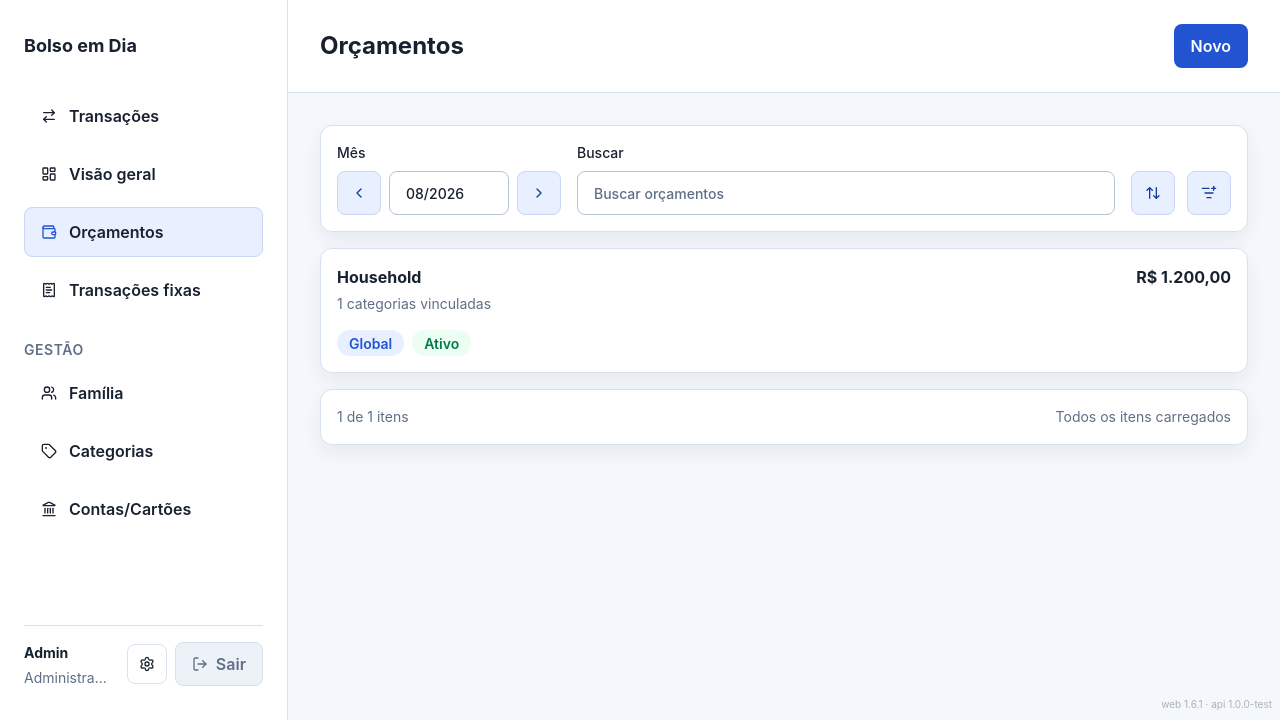
BudgetsPage › shows mapped error feedback when budget save fails
Expected: the text "Household" is shown, 337,267 -> 421,287
Click the button "Novo".
click(1211, 46)  # box 1174,24 -> 1248,68
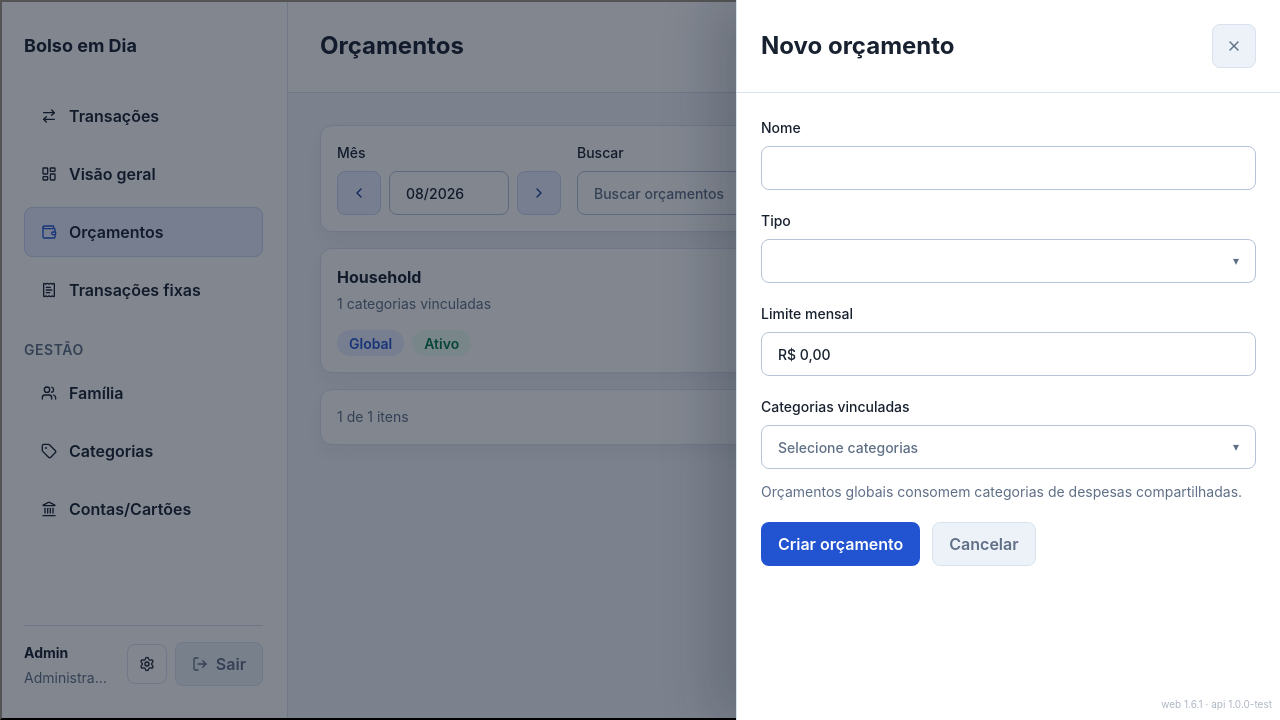
Type "Travel budget" into the field labelled "Nome".
click(1008, 168); type("Travel budget")  # box 761,146 -> 1256,190
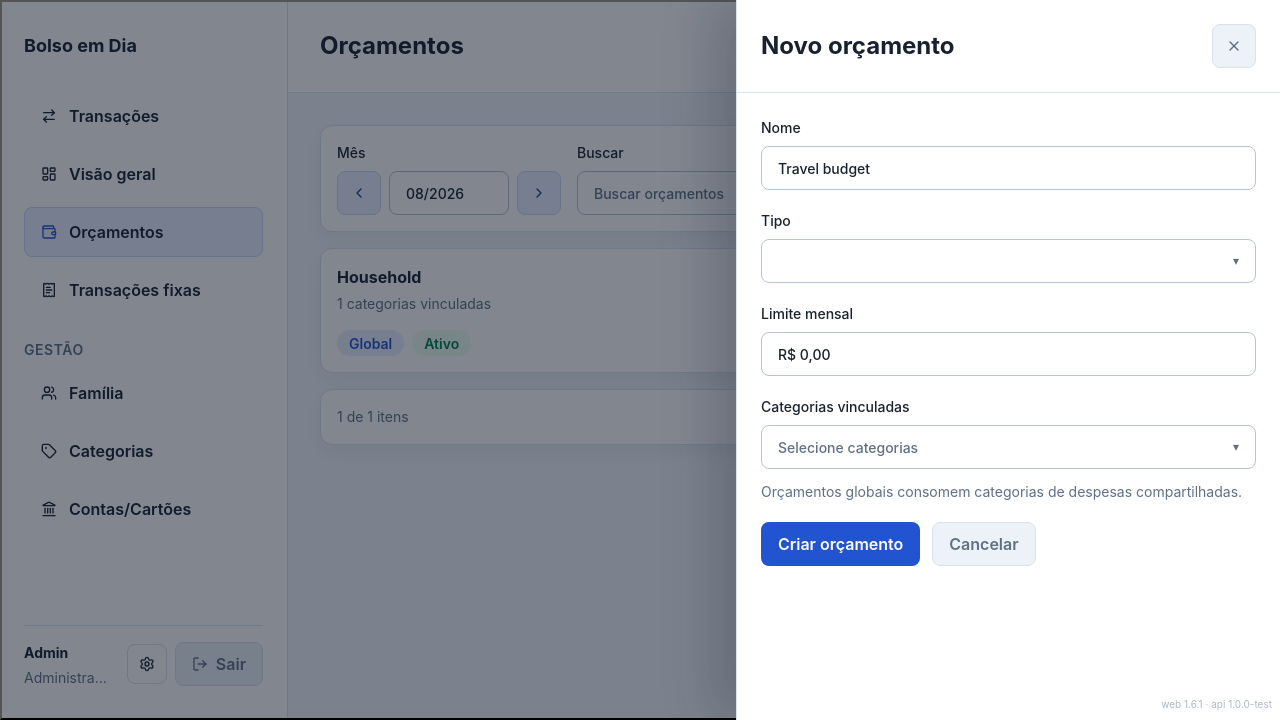
Replace the text in the field labelled "Limite mensal" with "450" at (1008, 354), box 761,332 -> 1256,376
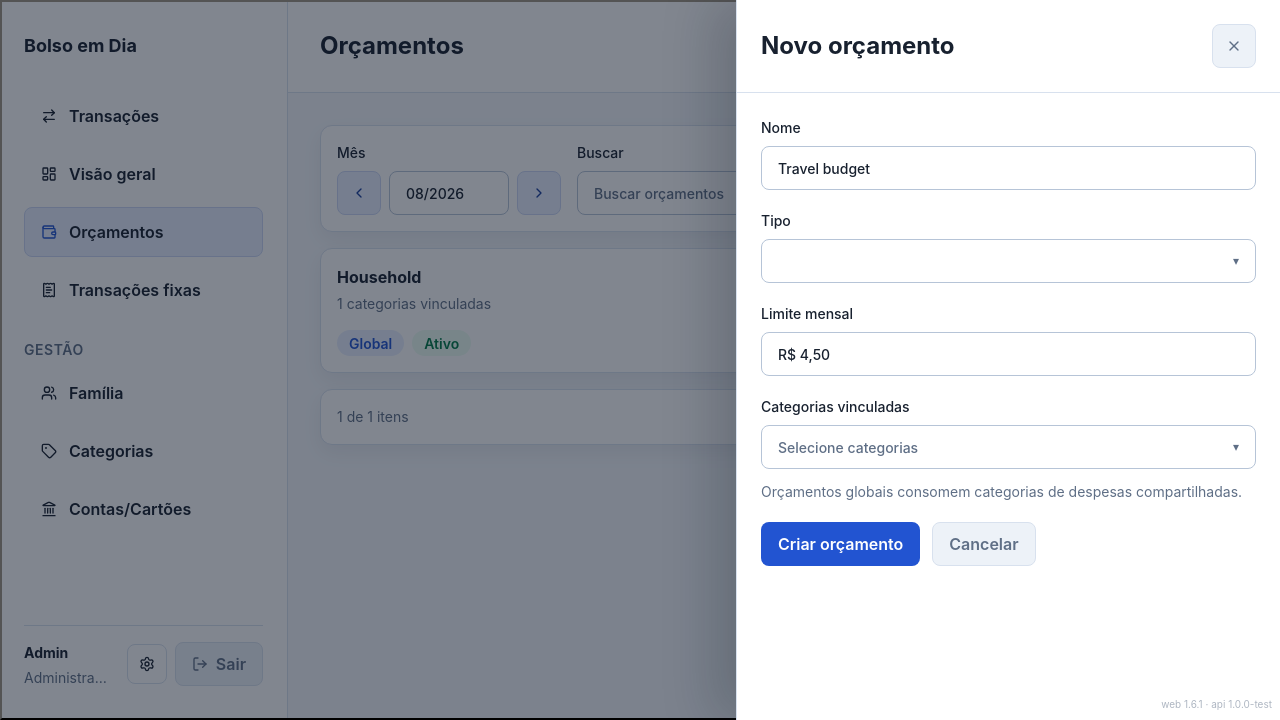
Select "Mesada" in the dropdown labelled "Tipo" at (1008, 246), box 761,210 -> 1256,283
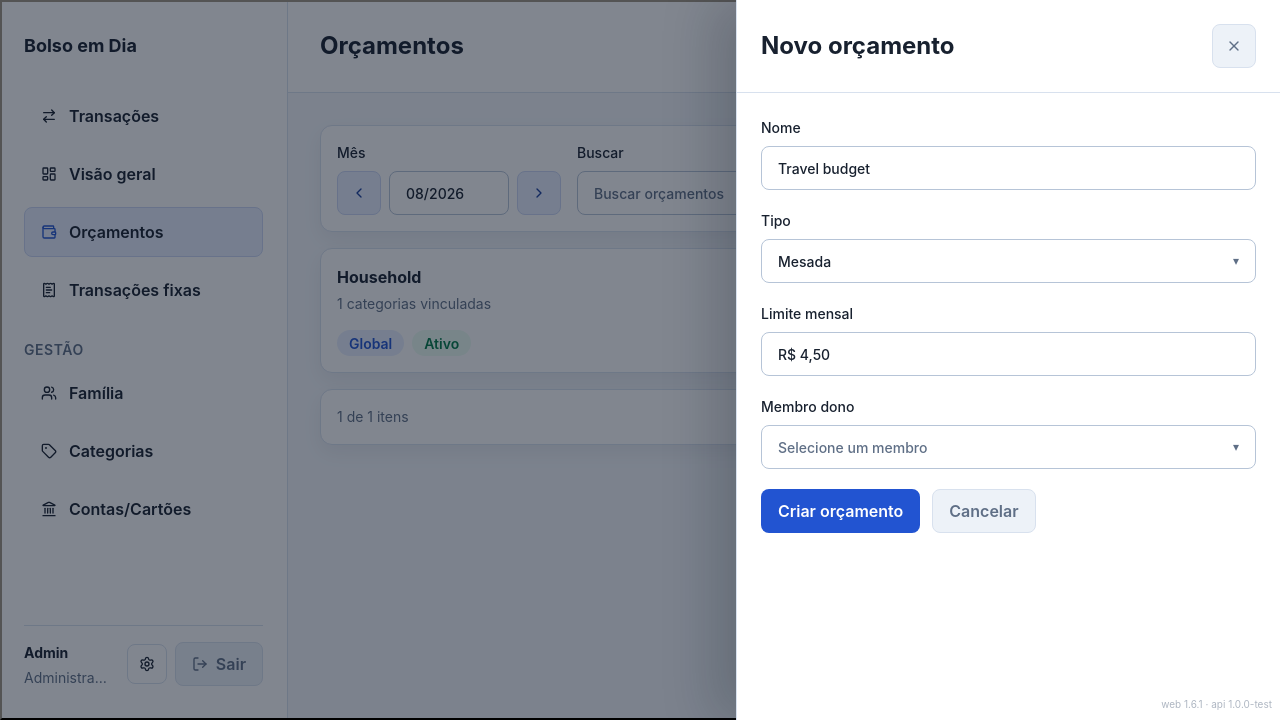
Select "Taylor" in the dropdown labelled "Membro dono" at (1008, 432), box 761,396 -> 1256,469
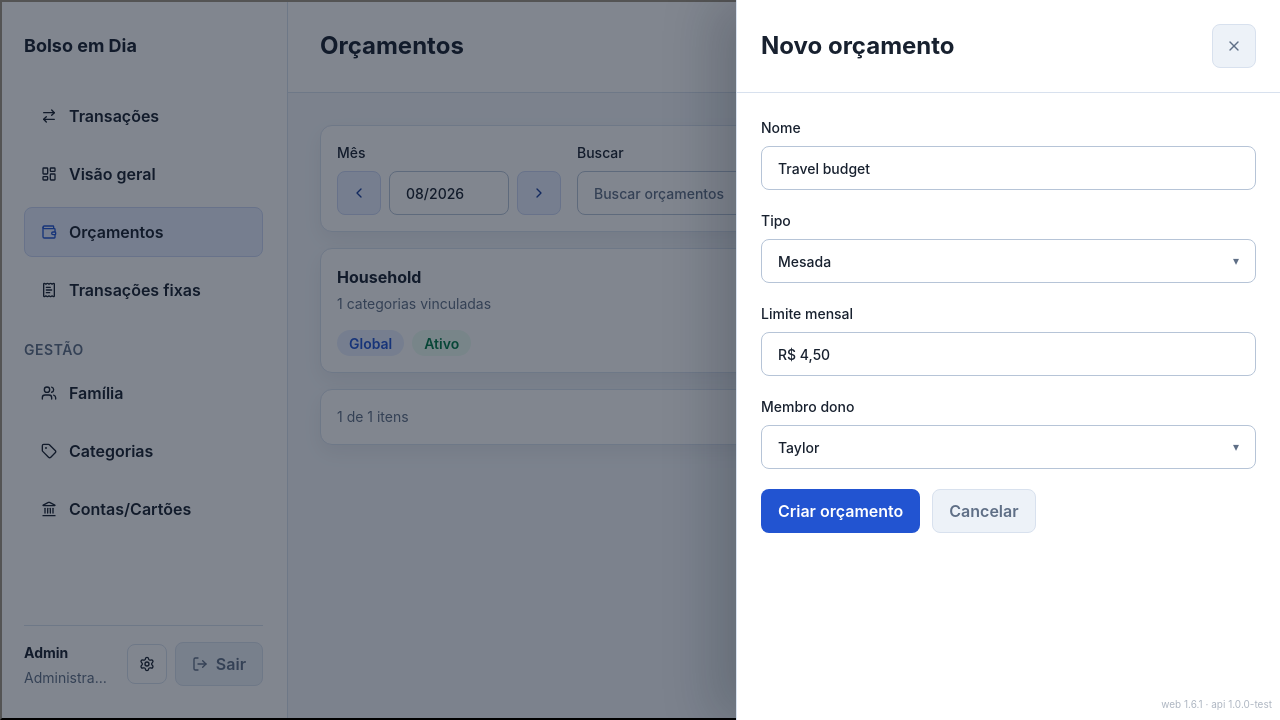
Click the button "Criar orçamento".
click(841, 511)  # box 761,489 -> 920,533
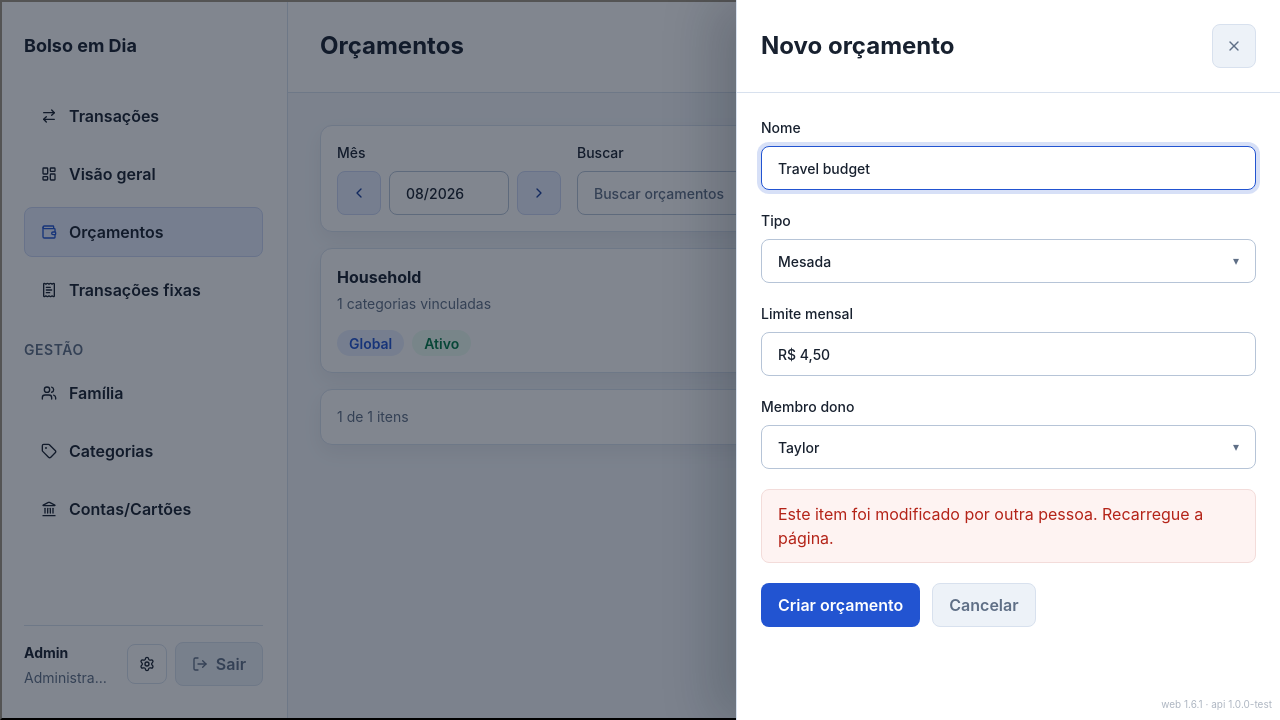
Expected: the text "Este item foi modificado por outra pessoa. Recarregue a página." is shown, 761,489 -> 1256,563
